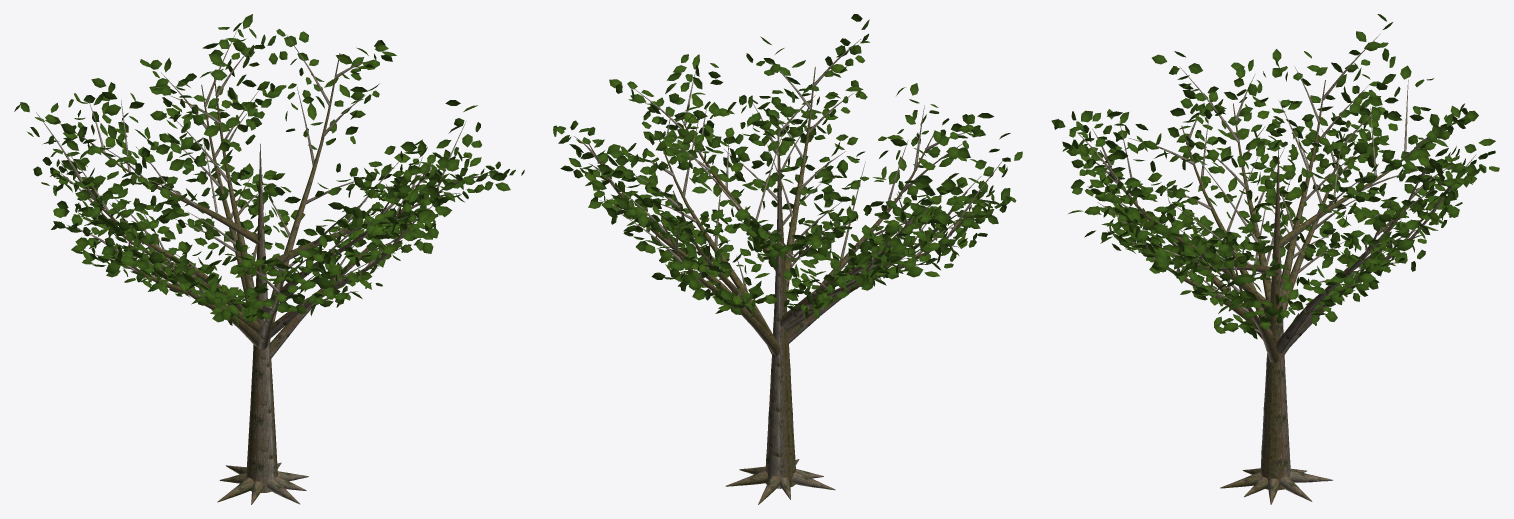
Rendered from oak_spreading_lod2.gltf.
3 views of the same model, side by side, from view 1: azimuth 30°, elevation 25°; view 2: azimuth 150°, elevation 25°; view 3: azimuth 270°, elevation 25° (orthographic). The views are drawn at different scales.
Visible parts, largest first — view 1: oak_spreading_lod2; view 2: oak_spreading_lod2; view 3: oak_spreading_lod2.
Boxes of the visible parts, bbox=[...] form: oak_spreading_lod2: bbox=[14, 14, 524, 504]; oak_spreading_lod2: bbox=[553, 14, 1022, 504]; oak_spreading_lod2: bbox=[1051, 14, 1499, 504].
Size of the model in its own units: 9.65 by 8.63 by 9.21.
3 materials, 3 textured.
